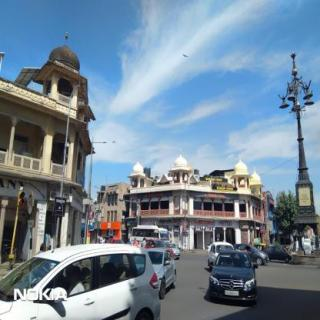Normal_vehicle: (208, 249, 257, 302)
